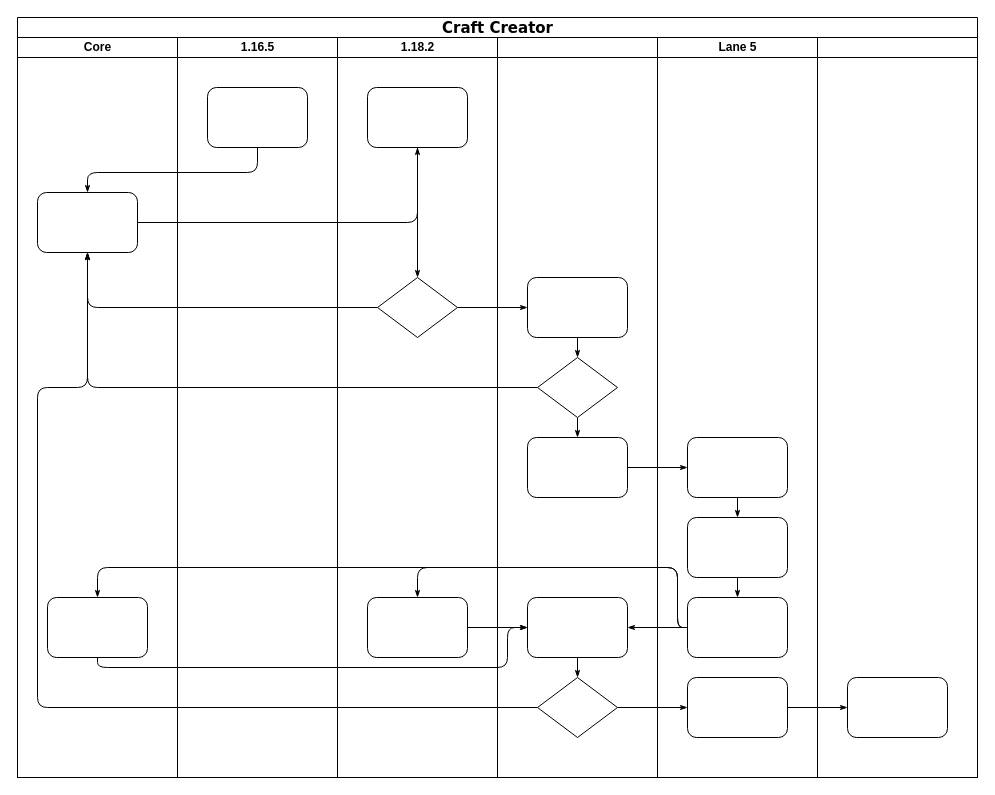
Some shapes in this 995 by 795 pixel diagram are drawn without their labels. Each missing label, with the box of its shape:
Lane 4: (496, 36, 658, 778)
Lane 6: (816, 36, 978, 778)
Mod Base 1.16.5: (206, 86, 308, 148)
